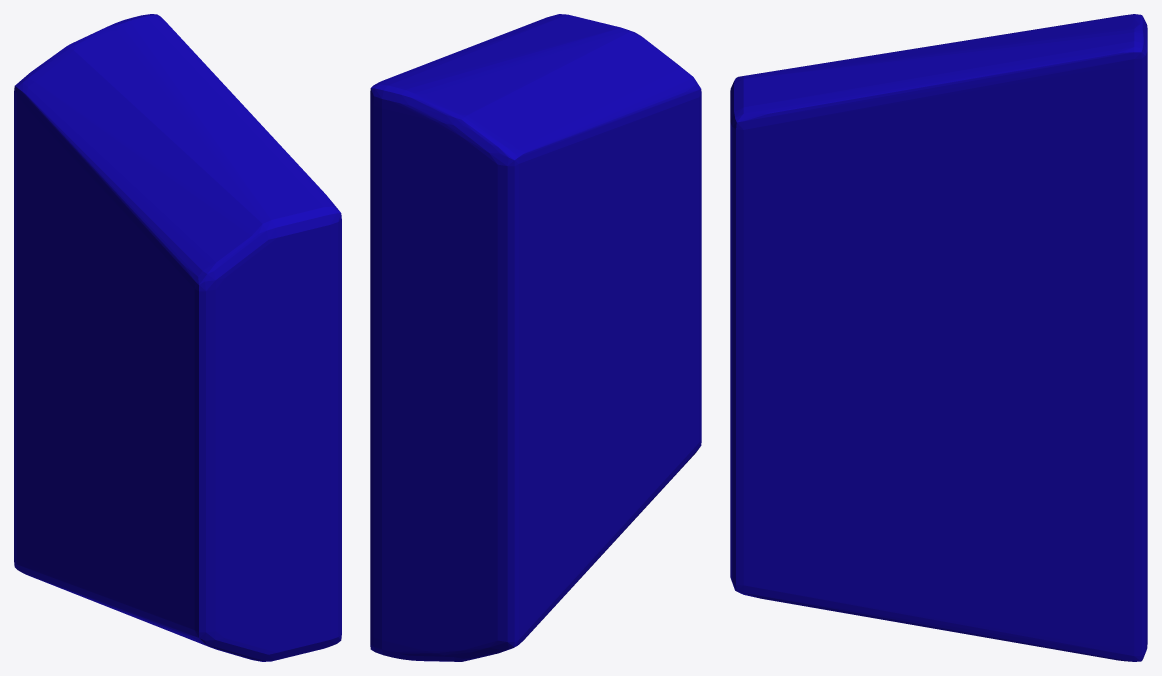
File: left_th_proximal_part_5.obj
The picture shows the model from 3 angles, left to right: view 1: azimuth 30°, elevation 25°; view 2: azimuth 150°, elevation 25°; view 3: azimuth 270°, elevation 25°; orthographic projection. The views are drawn at different scales.
Size of the model in its own units: 6.88 by 25.55 by 15.67.
